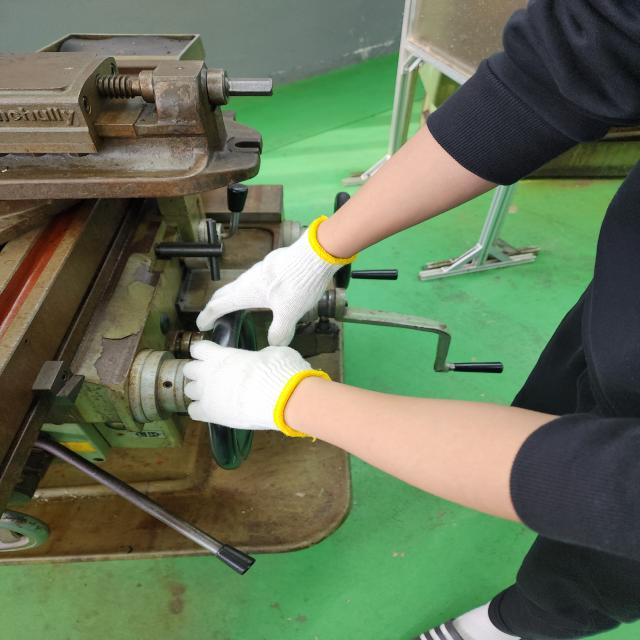Boots: (198, 223, 344, 332), (185, 339, 323, 436)
